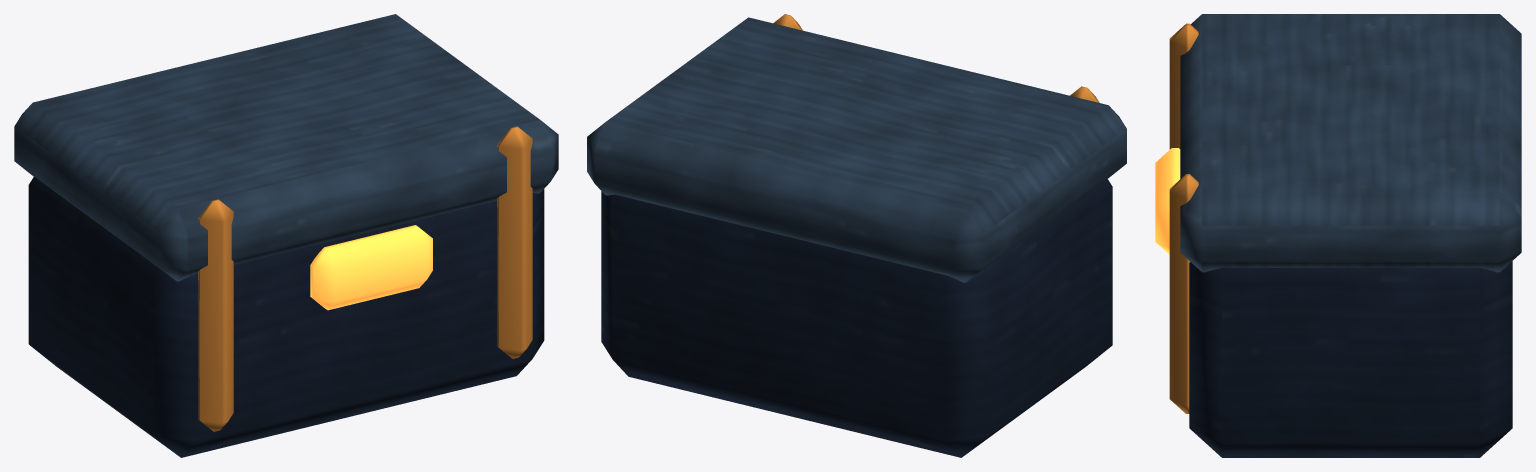
File: salvage_chest.glb
3 renders of one model, left to right at view 1: azimuth 30°, elevation 25°; view 2: azimuth 150°, elevation 25°; view 3: azimuth 270°, elevation 25°, orthographic. The views are drawn at different scales.
Parts seen in each view (by area): view 1: salvage_chest - Brushed gunmetal, salvage_chest - Blue steel, salvage_chest - Safety enamel, salvage_chest - Hot service LEDs; view 2: salvage_chest - Blue steel, salvage_chest - Brushed gunmetal; view 3: salvage_chest - Brushed gunmetal, salvage_chest - Blue steel, salvage_chest - Safety enamel, salvage_chest - Hot service LEDs.
Part boxes in pixels (x1,y1,x2,y2): salvage_chest - Brushed gunmetal: [14, 14, 558, 281]; salvage_chest - Blue steel: [28, 177, 544, 457]; salvage_chest - Safety enamel: [198, 126, 532, 431]; salvage_chest - Hot service LEDs: [310, 225, 432, 310]; salvage_chest - Blue steel: [601, 179, 1112, 457]; salvage_chest - Brushed gunmetal: [587, 17, 1126, 282]; salvage_chest - Brushed gunmetal: [1180, 14, 1521, 272]; salvage_chest - Blue steel: [1189, 261, 1512, 457]; salvage_chest - Safety enamel: [1169, 23, 1198, 413]; salvage_chest - Hot service LEDs: [1155, 148, 1180, 254].
Size of the model in its own units: 1.31 by 0.83 by 1.01.
4 materials, 2 textured.
